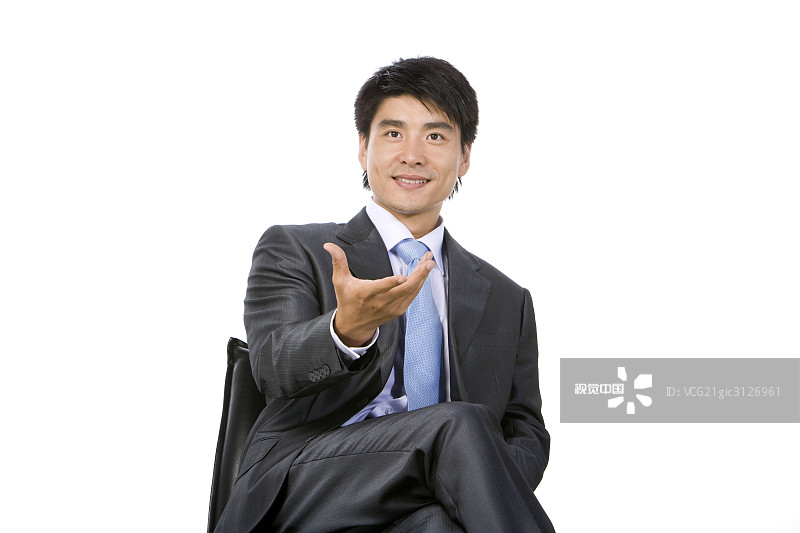no-phone: (296, 228, 462, 341)
